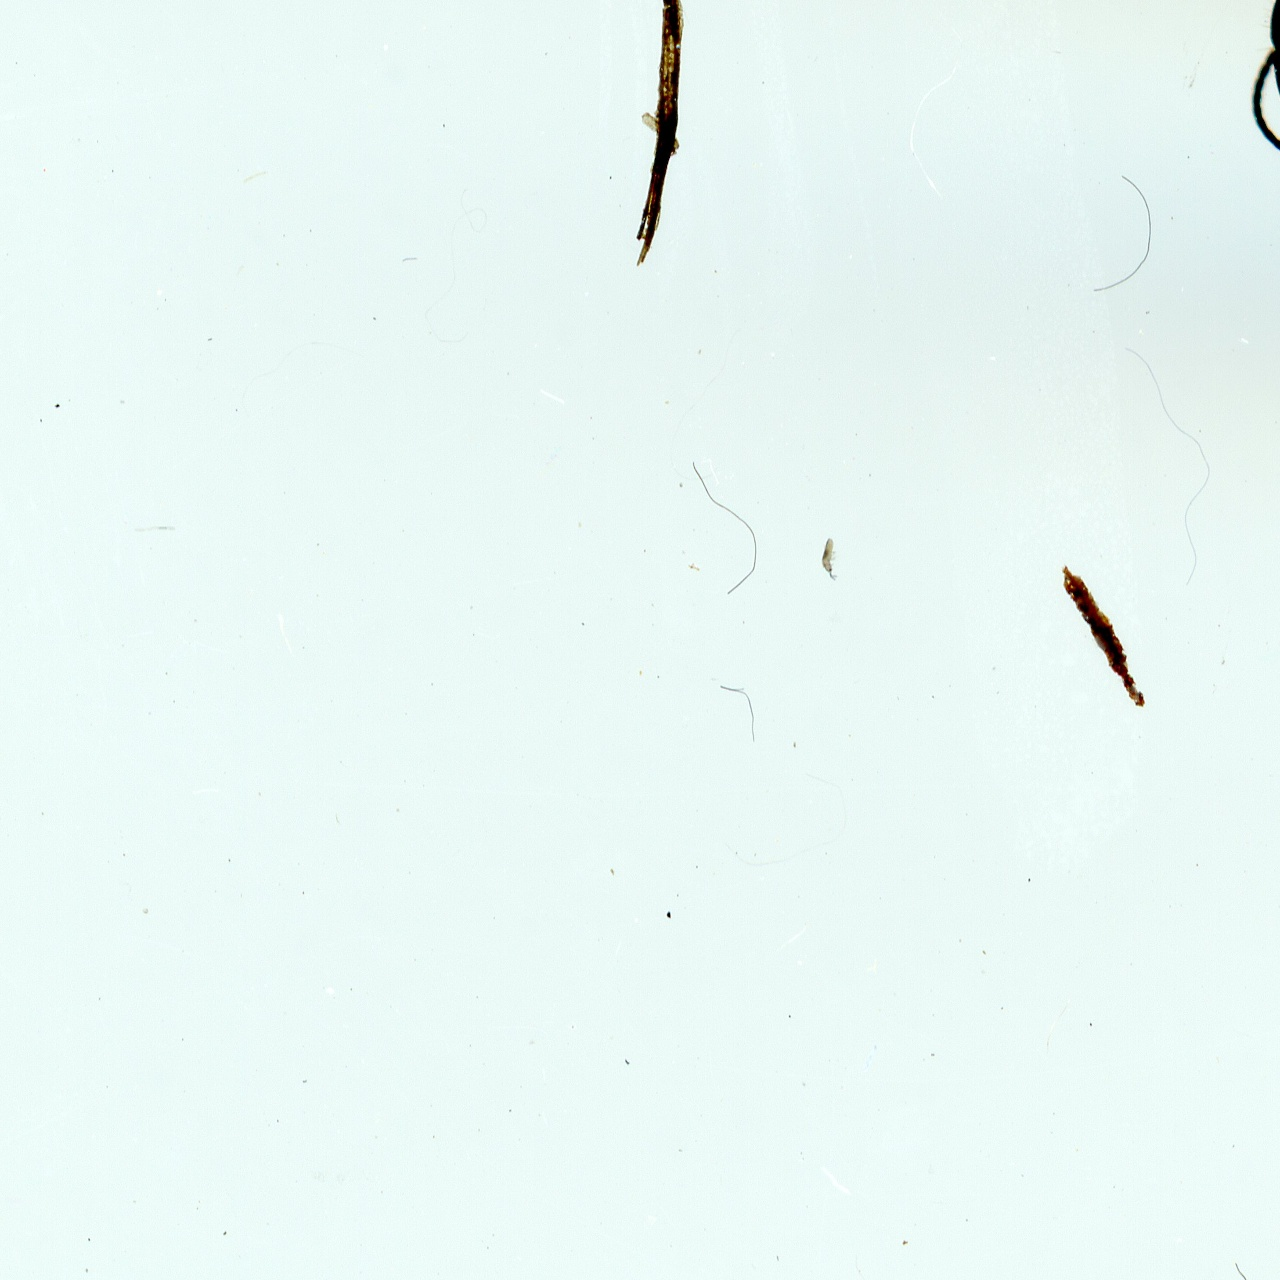arthropod: (818, 536, 846, 585), (0, 736, 4, 797)
